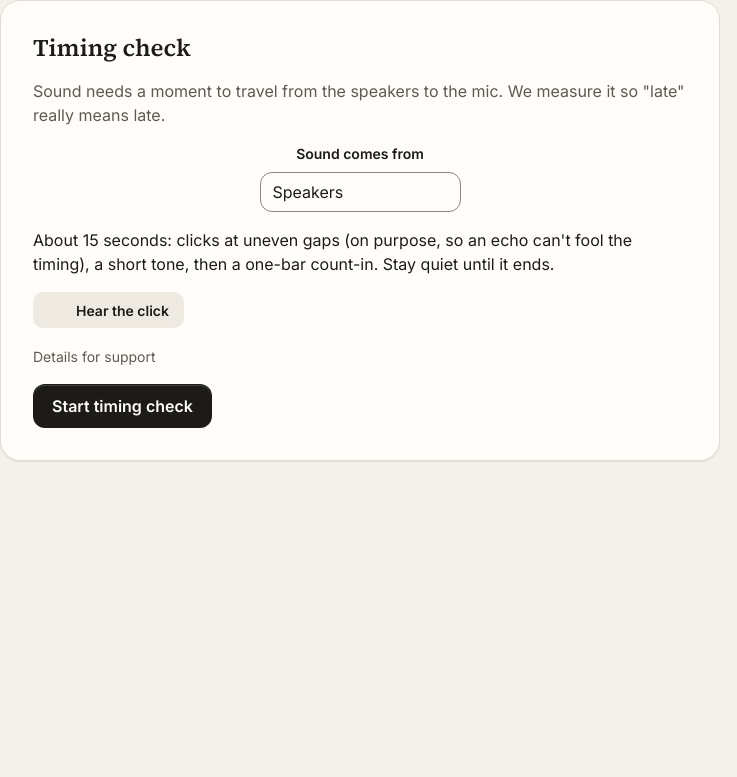
Test: CalibrationCard › a long delay with no Bluetooth evidence: the measured number first, info tone, inside the result, never Bluetooth (R80)
Click the button "Start timing check".
click(122, 406)  # box x1=33 y1=384 x2=212 y2=428
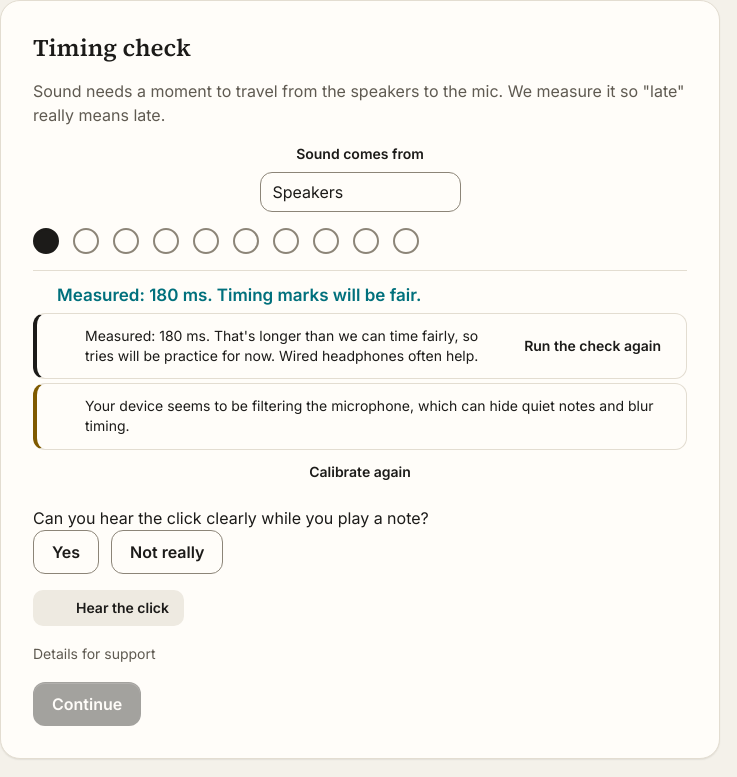
Result: the message with class "ui-banner-info" shows "Measured: 180 ms. That's longer than we can time fairly, so tries will be practice for now." at x1=85 y1=326 x2=478 y2=364
Result: the text "filtering the microphone" is shown at x1=85 y1=397 x2=654 y2=434
